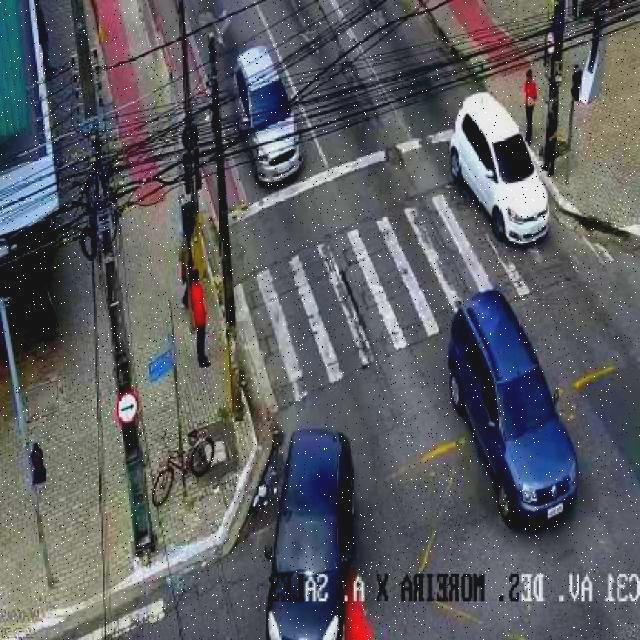Car: (448, 290, 581, 532), (267, 428, 345, 640), (451, 93, 557, 246), (234, 46, 304, 182)
Cycle: (152, 431, 216, 506)
